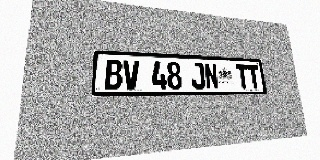4: (151, 61, 167, 90)
8: (167, 62, 182, 89)
B: (105, 59, 122, 90)
J: (190, 62, 206, 89)
N: (204, 63, 219, 89)
T: (235, 64, 250, 89), (247, 65, 261, 89)
V: (123, 60, 139, 90)
